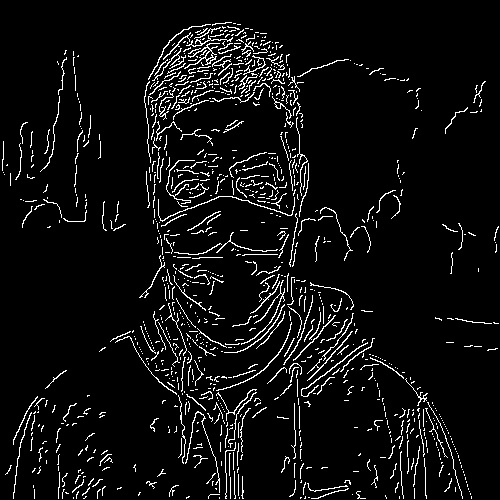mask: (147, 193, 315, 335)
